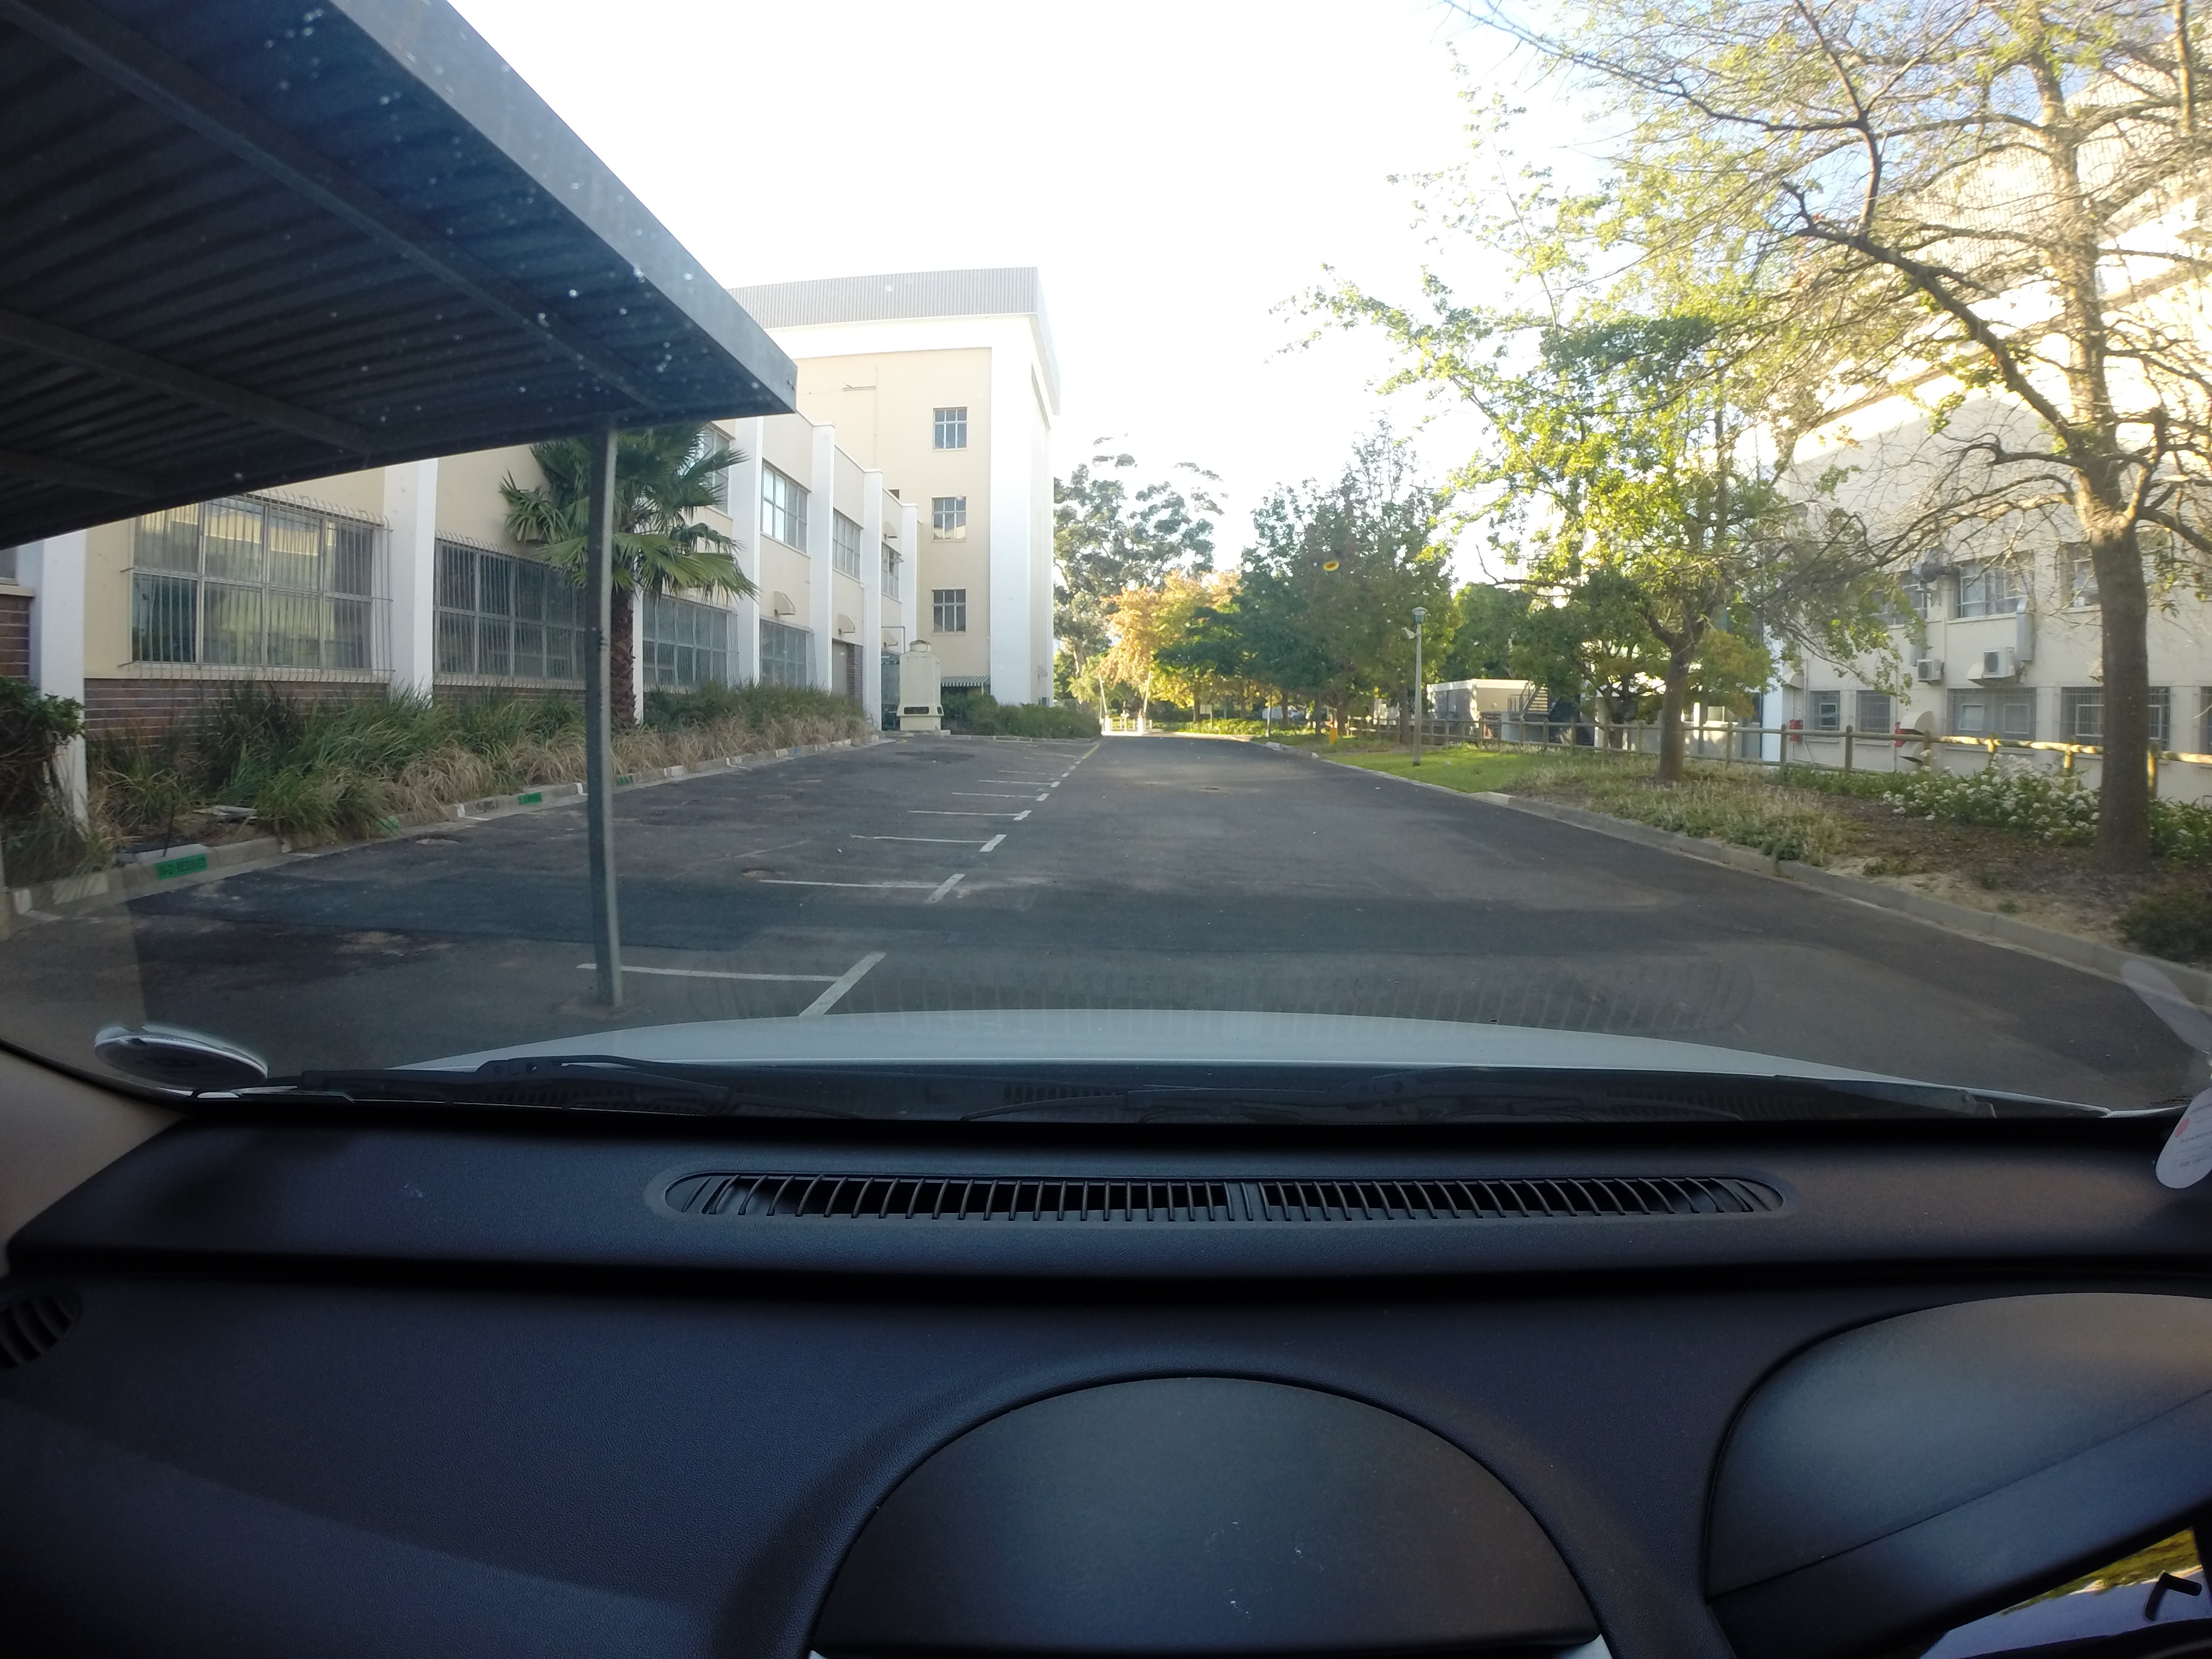pothole: (735, 863, 803, 884), (411, 835, 474, 850)
